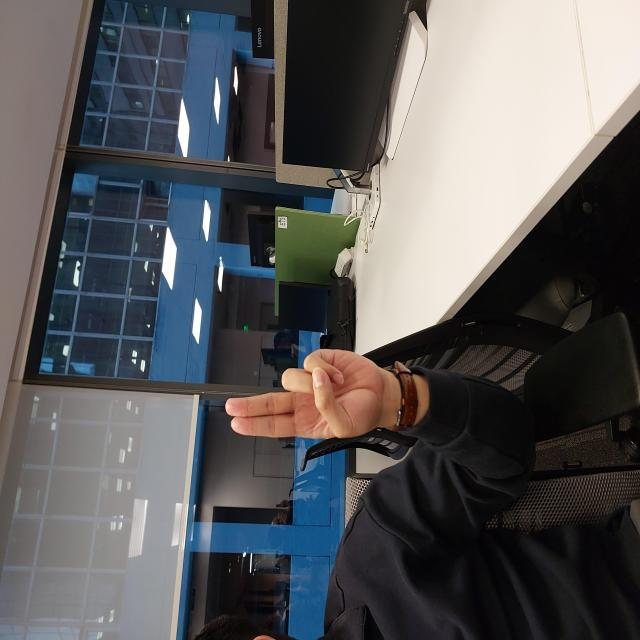U: (202, 226, 291, 382)
